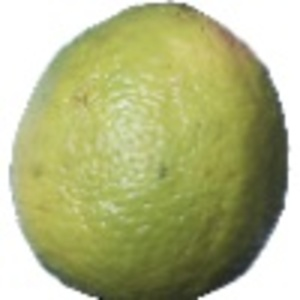limão: (2, 1, 288, 300)
